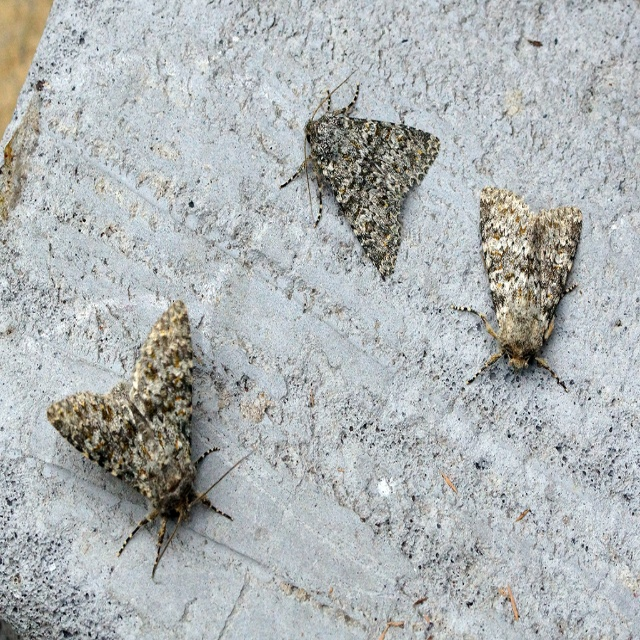Moths and butterflies: (42, 297, 259, 579), (276, 65, 443, 279), (451, 182, 584, 392)
